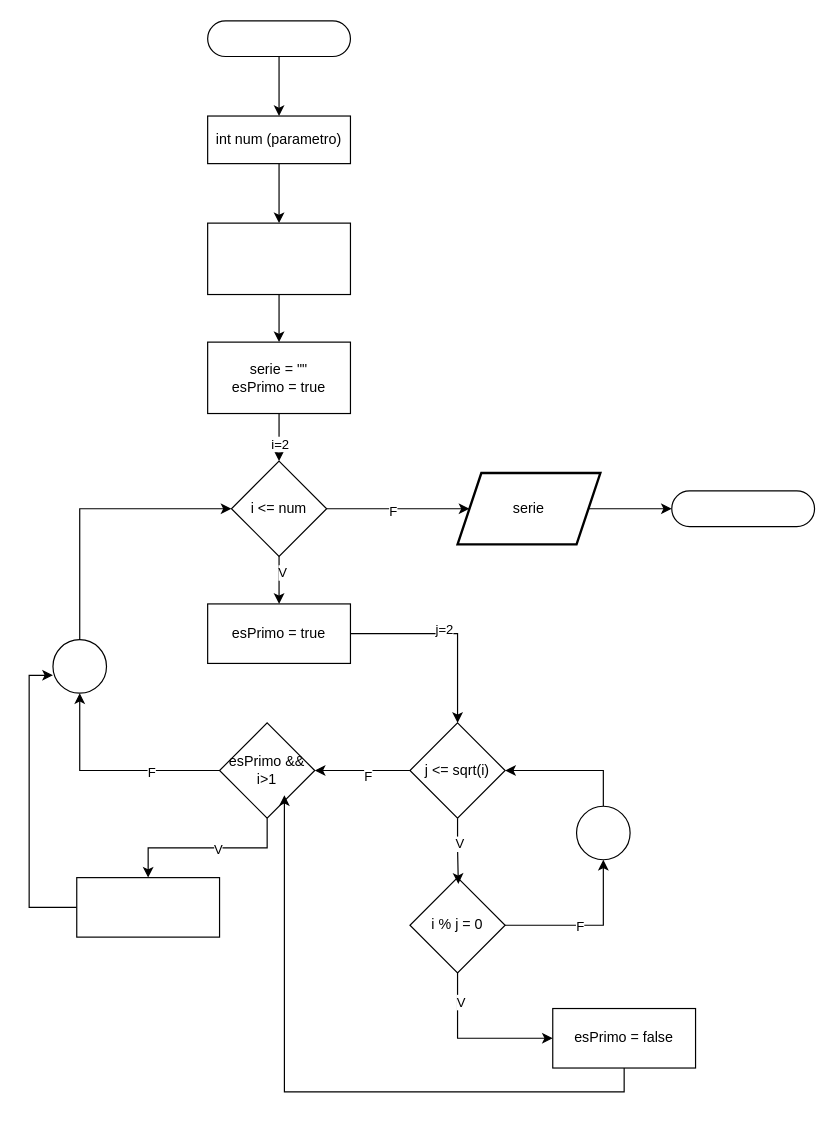
This 835x1122 diagram has some shape labels left out. The shapes that lost their labels are listed below. From the top down, each one's centre as x and y in pixels, then its label:
(x=278, y=38): INICIO
(x=278, y=258): string serie bool esPrimo
(x=743, y=508): FIN
(x=148, y=906): serie += i + "-"
